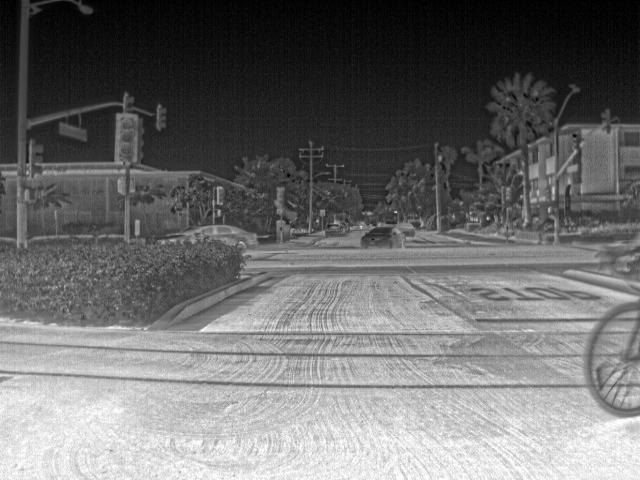car: (158, 223, 261, 253), (361, 226, 407, 250), (325, 222, 346, 236), (397, 222, 417, 236), (363, 211, 379, 226), (384, 219, 398, 227)
